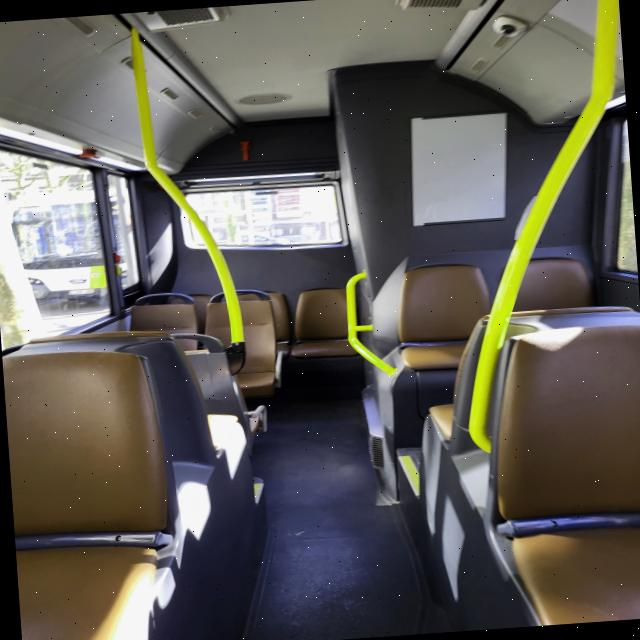empty-seat-frontal: (2, 347, 175, 640), (494, 321, 640, 627), (390, 260, 501, 381), (195, 290, 282, 394), (288, 282, 369, 368)
